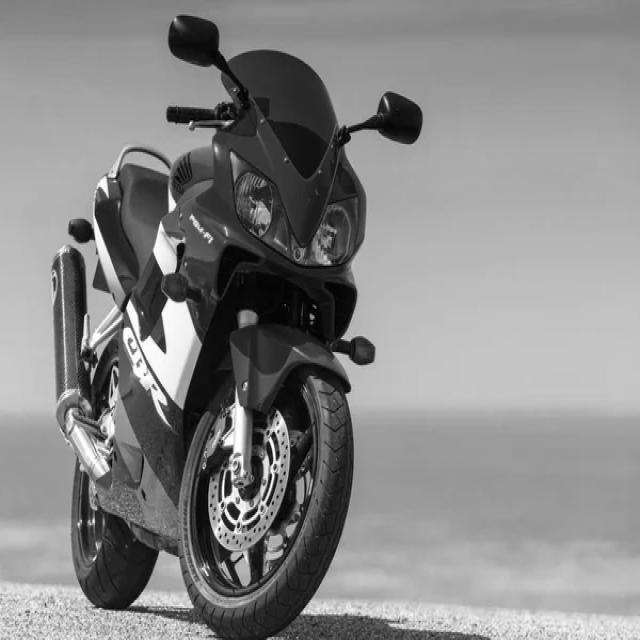Motorcycle: (51, 15, 424, 640)
